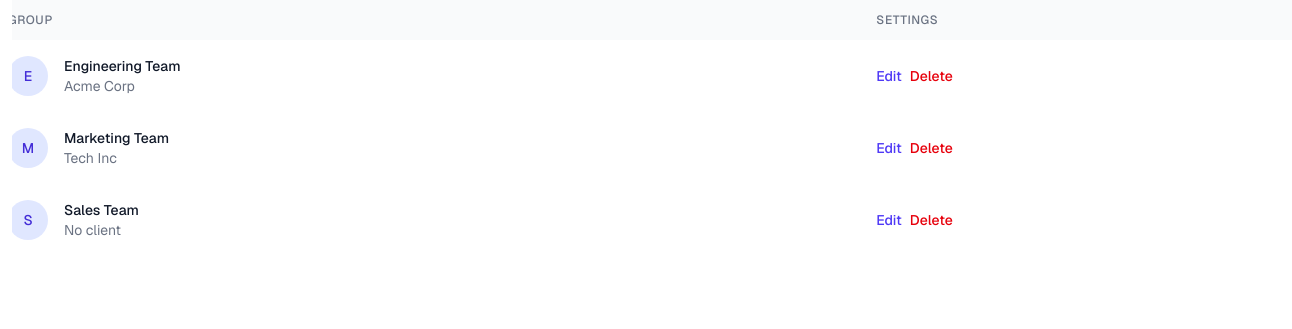
it: GroupsTable › should handle network error during deletion
Click the button "Delete" in the row of "Engineering Team" at (931, 76), box x1=910 y1=66 x2=953 y2=86
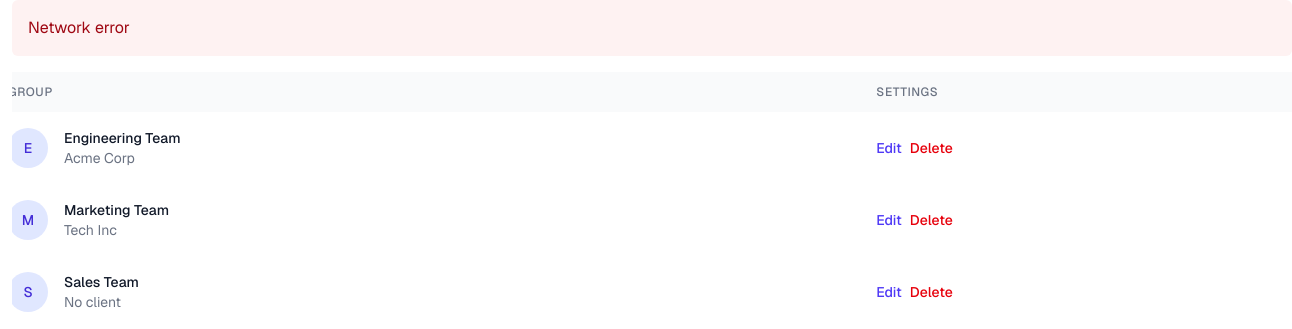
Check: the text "Network error" is shown, box x1=12 y1=0 x2=1291 y2=56
